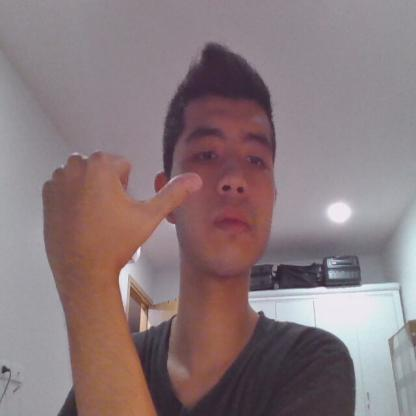left: (41, 148, 203, 261)
